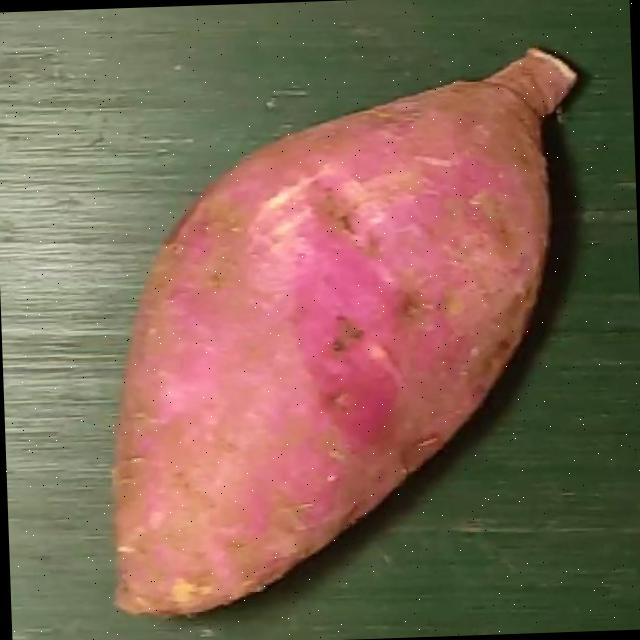Sweet Potato: (110, 44, 574, 616)
